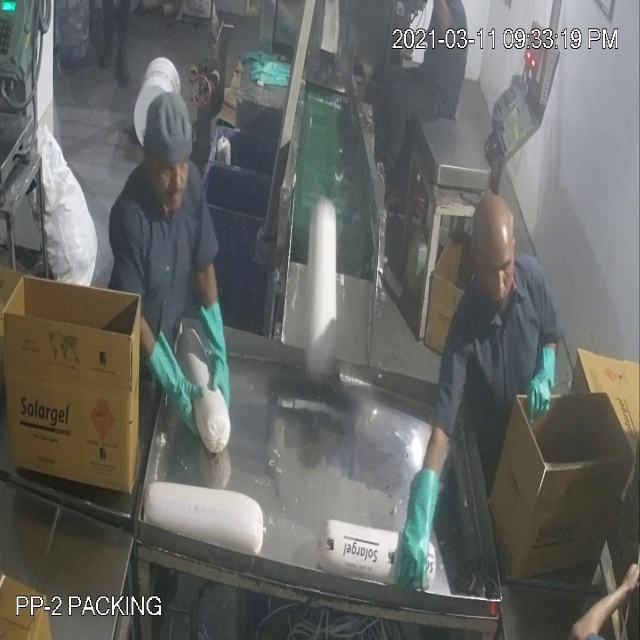Guantes: (386, 454, 437, 605), (195, 288, 242, 427), (149, 326, 202, 436), (524, 345, 561, 432)
Sin_guantes: (568, 558, 640, 640)
